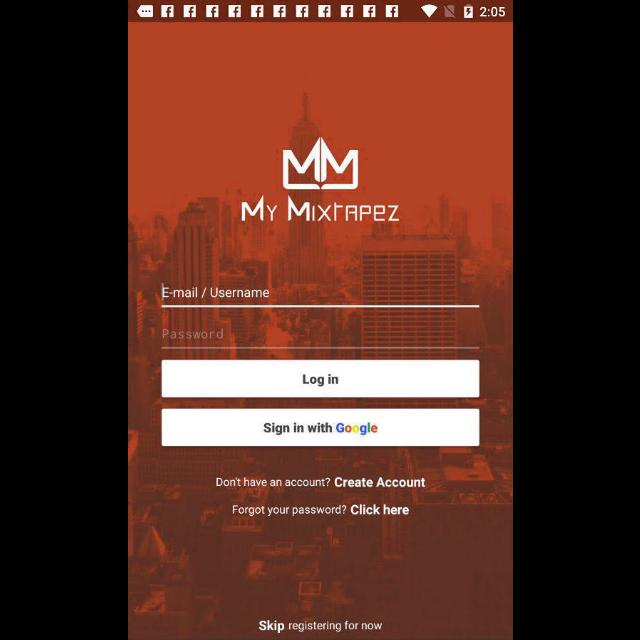backgroundimage: (128, 22, 512, 640)
image: (240, 136, 400, 224)
input: (161, 282, 479, 308), (161, 328, 479, 350)
text: (258, 619, 382, 633), (232, 505, 346, 517), (215, 476, 329, 488), (162, 288, 268, 298), (333, 477, 425, 488), (349, 504, 408, 516), (162, 328, 224, 339)
textbutton: (161, 408, 479, 446), (161, 360, 479, 398)
uppertaskbar: (128, 1, 512, 23)
